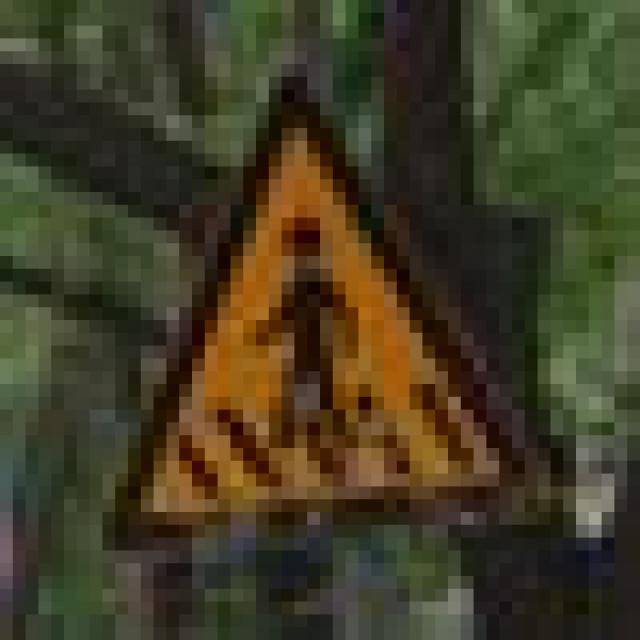pass_either_side: (77, 51, 550, 538)
